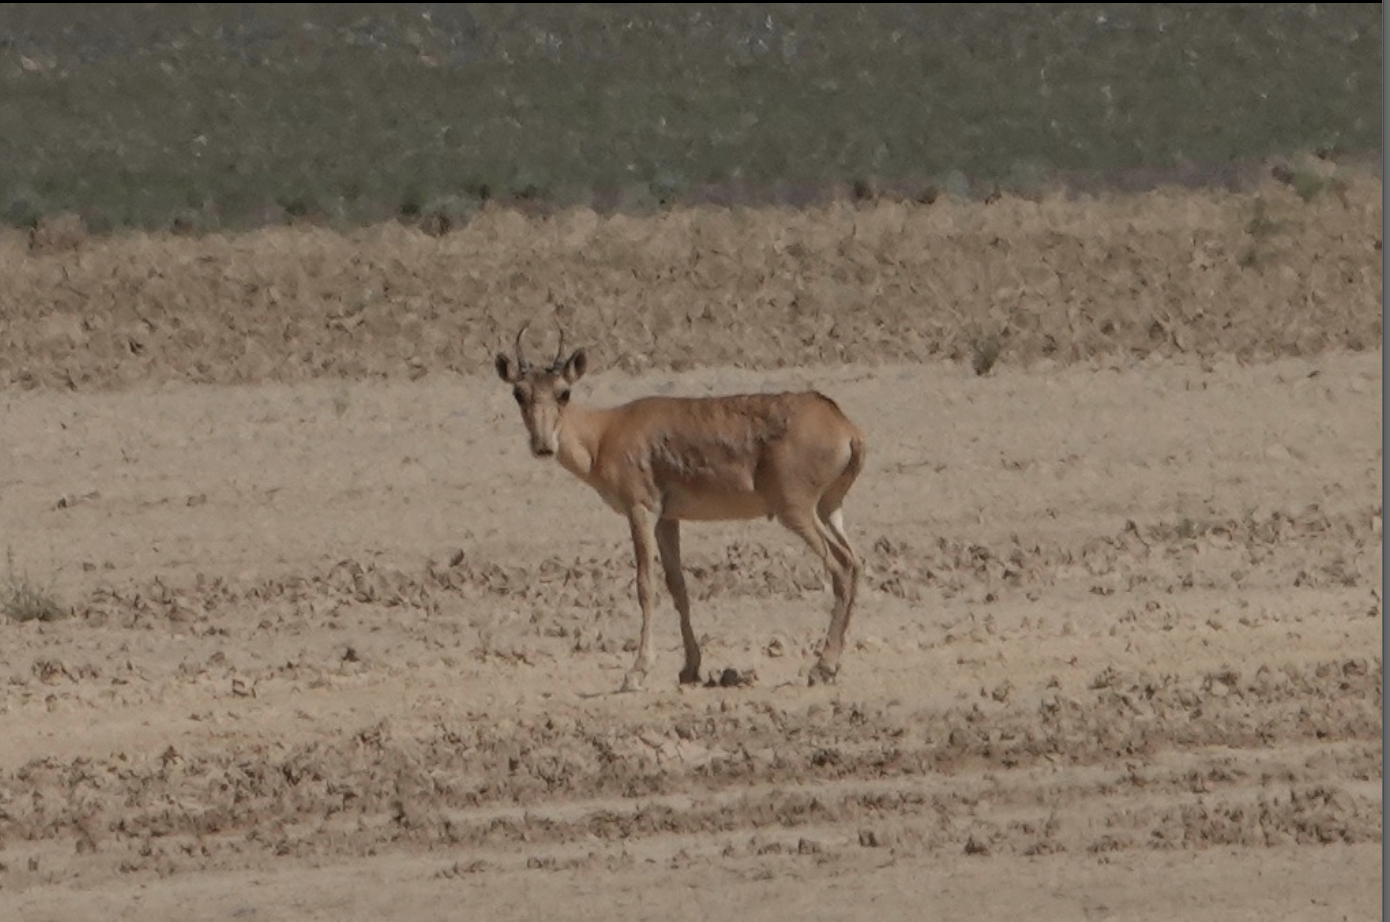saiga: (472, 302, 908, 701)
